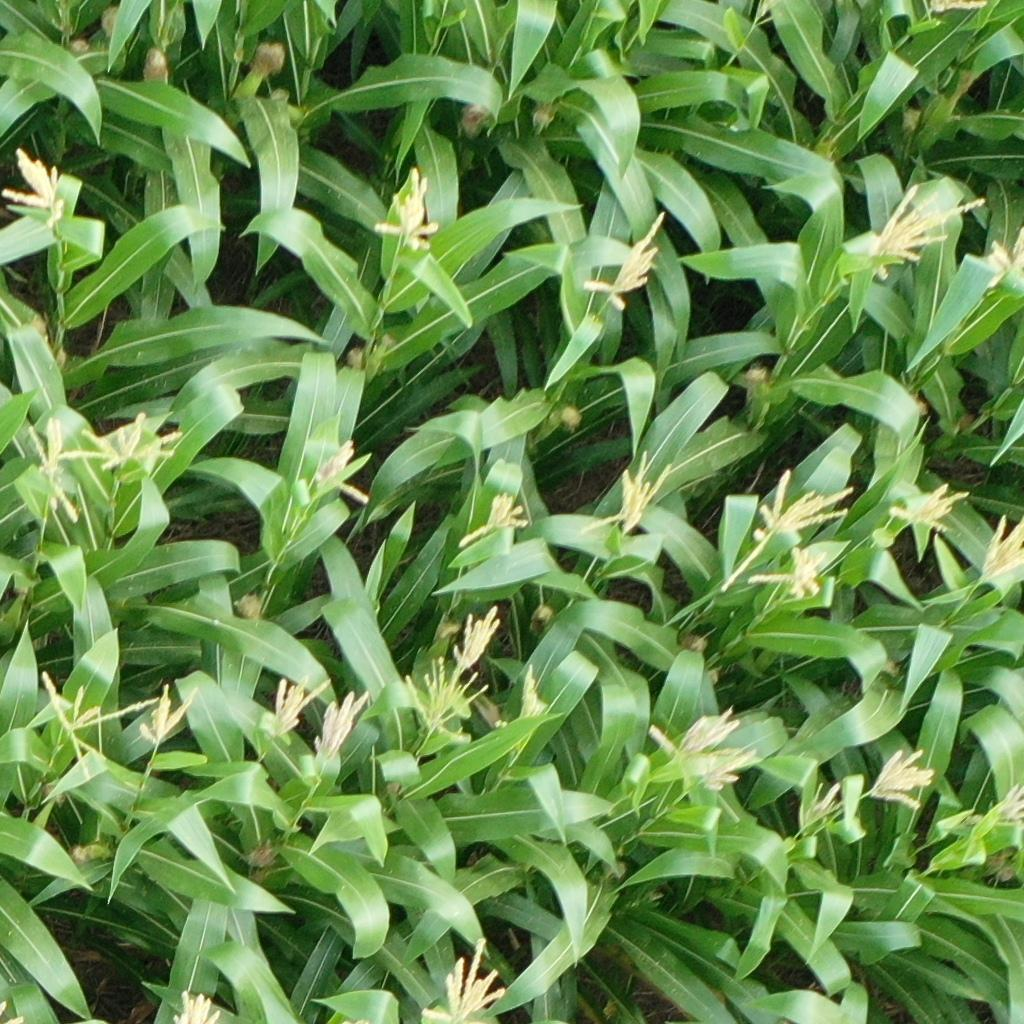Tassel: (718, 469, 857, 593), (34, 671, 161, 782), (858, 181, 985, 281), (23, 417, 118, 527), (581, 210, 668, 313), (579, 449, 672, 543), (56, 411, 185, 477), (417, 936, 507, 1024), (401, 657, 493, 737), (644, 704, 740, 768), (375, 165, 442, 253), (1, 146, 68, 232), (299, 438, 376, 510), (884, 477, 970, 536), (747, 545, 830, 603), (867, 745, 939, 811), (312, 687, 370, 765), (457, 491, 530, 549), (267, 676, 331, 741), (140, 682, 199, 751), (449, 606, 501, 677), (974, 511, 1024, 584), (794, 781, 848, 839), (698, 745, 760, 795), (985, 228, 1024, 294), (168, 986, 222, 1024), (983, 783, 1024, 829), (518, 666, 548, 726), (922, 1, 988, 16), (752, 1, 787, 28)
